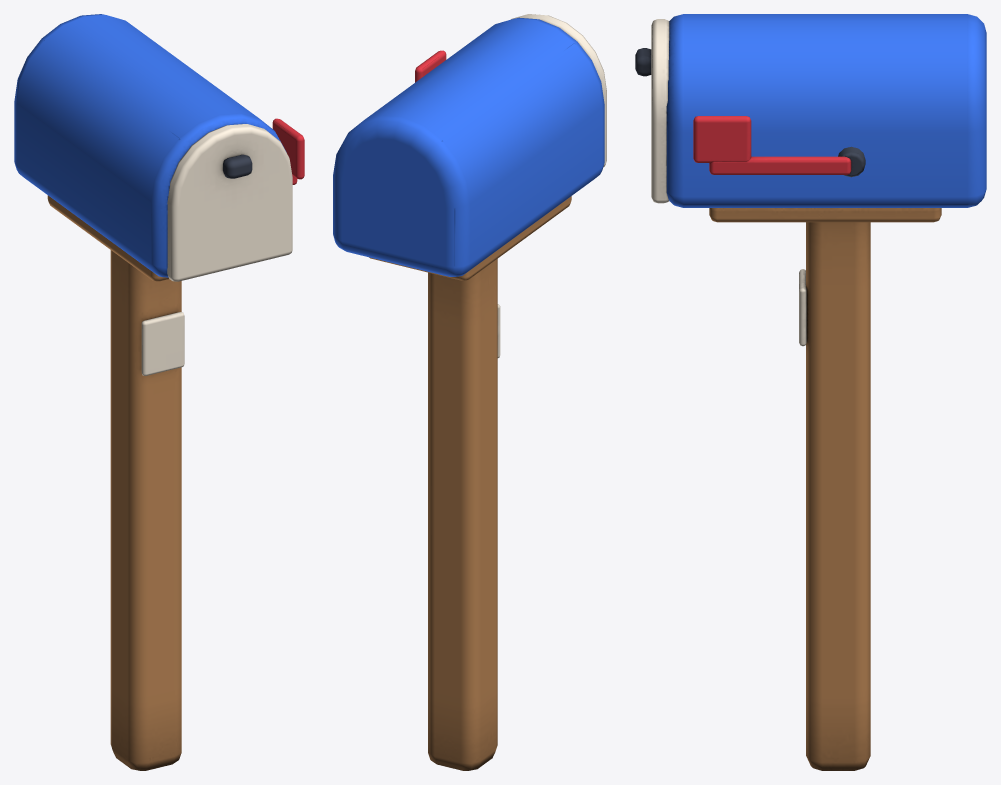
File: mailbox.glb
3 views of the same model, side by side, from view 1: azimuth 30°, elevation 25°; view 2: azimuth 150°, elevation 25°; view 3: azimuth 270°, elevation 25° (orthographic). The views are drawn at different scales.
Parts seen in each view (by area): view 1: mailbox, Flag; view 2: mailbox; view 3: mailbox, Flag.
Part boxes in pixels (bbox=[...]): mailbox: bbox=[14, 14, 292, 770]; Flag: bbox=[272, 118, 304, 184]; mailbox: bbox=[333, 14, 606, 770]; mailbox: bbox=[635, 14, 986, 770]; Flag: bbox=[693, 116, 865, 177].
Bounding box in the file's own units: 0.304 × 1.27 × 0.545.
Materials: 6 (6 with a texture image).
